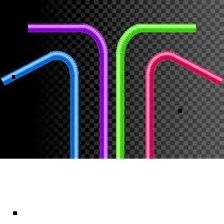drinking_straw: (24, 15, 114, 160), (111, 16, 198, 162), (0, 43, 85, 159), (140, 44, 223, 158)
